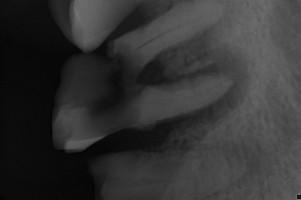Dental Caries: (136, 31, 253, 123)
Furcation Involvement: (208, 140, 276, 197)
